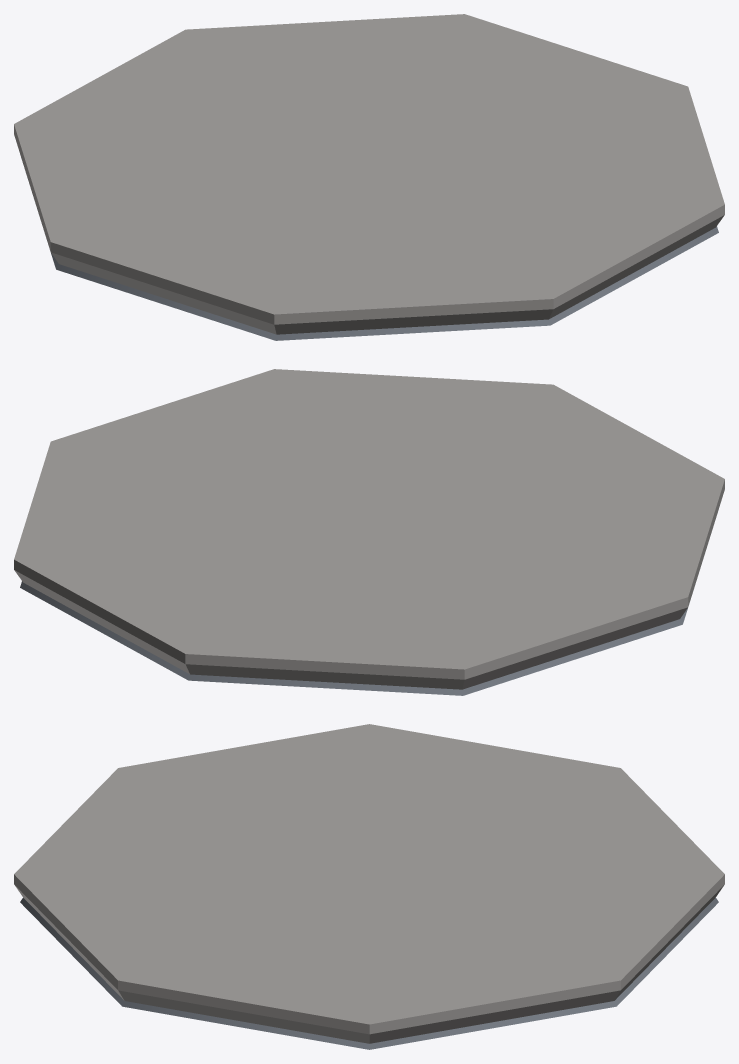
The model's file is SM_Prop_CeilingLight2.fbx.
3 renders of one model, top to bottom at view 1: azimuth 30°, elevation 25°; view 2: azimuth 150°, elevation 25°; view 3: azimuth 270°, elevation 25°, orthographic. The views are drawn at different scales.
Visible parts, largest first — view 1: SM_Prop_CeilingLight2; view 2: SM_Prop_CeilingLight2; view 3: SM_Prop_CeilingLight2.
Part boxes in pixels (x1,y1,x2,y2): SM_Prop_CeilingLight2: (14, 14, 724, 340); SM_Prop_CeilingLight2: (14, 369, 724, 695); SM_Prop_CeilingLight2: (14, 724, 724, 1049).
Bounding box in the file's own units: 50.34 × 4.11 × 50.34.
Materials: 1 (1 with a texture image).
